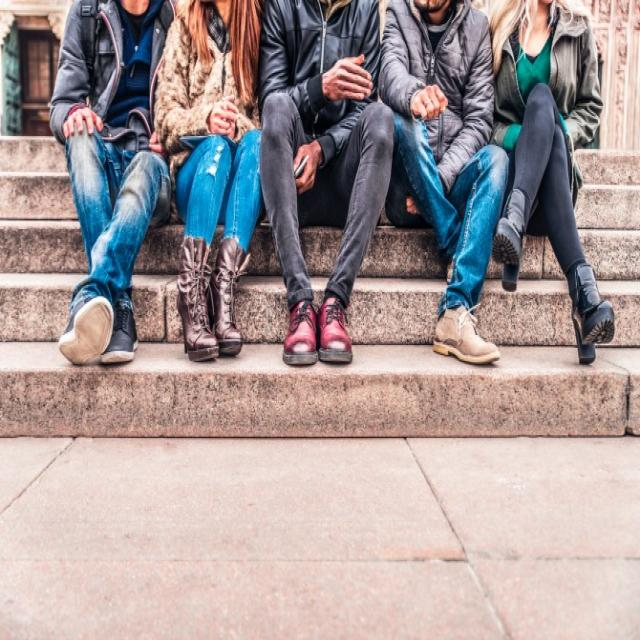human: (175, 0, 264, 104), (484, 0, 592, 79)
loitering: (52, 0, 616, 371), (128, 0, 276, 359), (252, 1, 391, 366), (481, 0, 619, 367), (379, 0, 508, 362), (48, 0, 158, 371)
